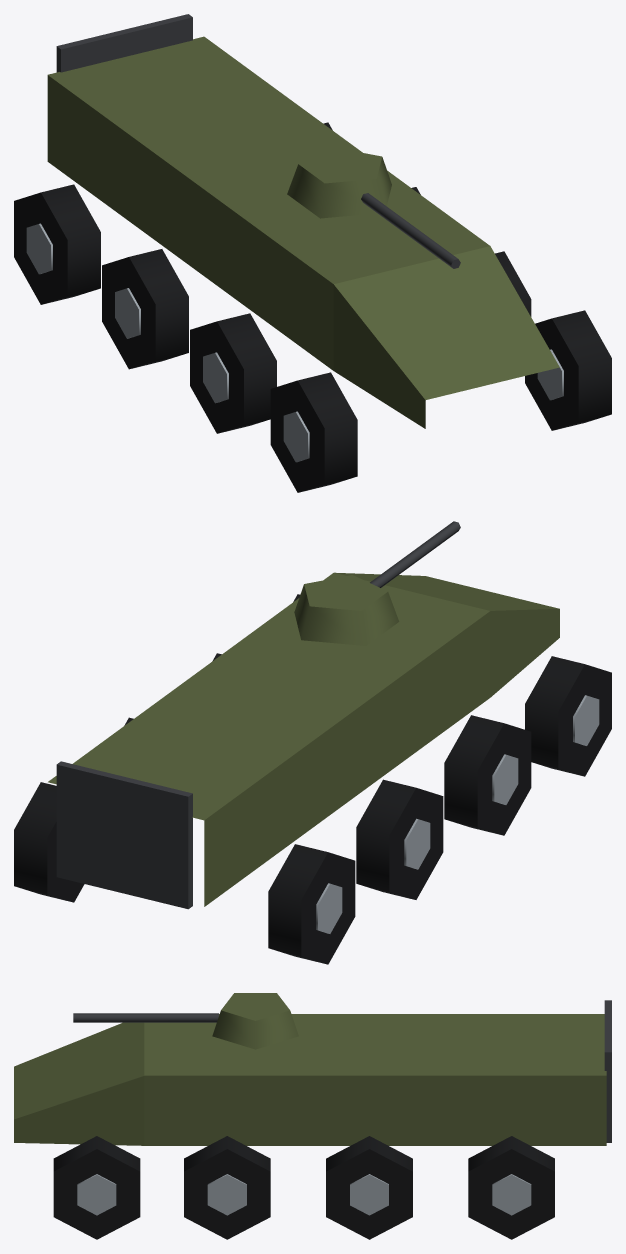
The model's file is veh_ground_apc_a08_lod1.glb.
3 renders of one model, top to bottom at view 1: azimuth 30°, elevation 25°; view 2: azimuth 150°, elevation 25°; view 3: azimuth 270°, elevation 25°, orthographic. The views are drawn at different scales.
Parts seen in each view (by area): view 1: body, wheel_6, wheel_0, wheel_2, wheel_4, wheel_7, gun, ramp, wheel_5; view 2: body, ramp, wheel_0, wheel_4, wheel_2, wheel_6, gun, wheel_1; view 3: body, wheel_7, wheel_5, wheel_1, wheel_3, gun, ramp.
Part boxes in pixels (x1=…): body: x1=47, y1=36, x2=559, y2=428; wheel_6: x1=270, y1=372, x2=357, y2=492; wheel_0: x1=14, y1=184, x2=100, y2=304; wheel_2: x1=102, y1=249, x2=188, y2=369; wheel_4: x1=190, y1=313, x2=276, y2=433; wheel_7: x1=525, y1=310, x2=611, y2=430; gun: x1=287, y1=147, x2=460, y2=268; ramp: x1=56, y1=14, x2=192, y2=72; wheel_5: x1=495, y1=251, x2=531, y2=316; body: x1=48, y1=572, x2=559, y2=906; ramp: x1=56, y1=761, x2=192, y2=909; wheel_0: x1=268, y1=844, x2=355, y2=964; wheel_4: x1=444, y1=715, x2=531, y2=835; wheel_2: x1=356, y1=779, x2=443, y2=899; wheel_6: x1=525, y1=656, x2=611, y2=776; gun: x1=294, y1=521, x2=460, y2=645; wheel_1: x1=14, y1=782, x2=84, y2=902; body: x1=14, y1=1014, x2=606, y2=1145; wheel_7: x1=53, y1=1136, x2=140, y2=1239; wheel_5: x1=184, y1=1136, x2=270, y2=1239; wheel_1: x1=468, y1=1136, x2=554, y2=1239; wheel_3: x1=326, y1=1136, x2=412, y2=1239; gun: x1=73, y1=993, x2=298, y2=1049; ramp: x1=604, y1=1000, x2=611, y2=1142.
Bounding box in the file's own units: 2.98 × 2.15 × 6.56.
